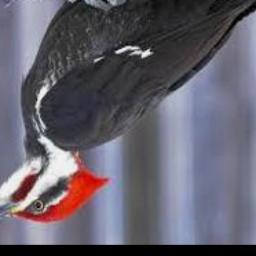Woodpecker: (0, 0, 256, 234)
